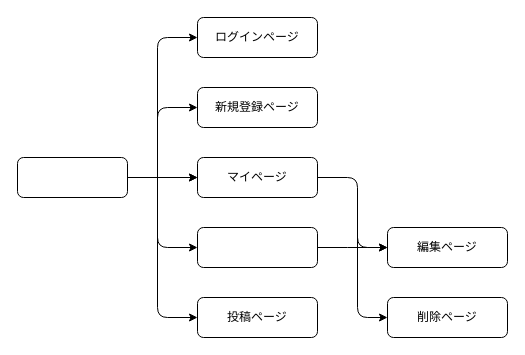
This 525x355 diagram has some shape labels left out. Each missing label, with the box of its shape:
一覧ページ: (16, 156, 128, 198)
詳細ページ: (196, 226, 318, 268)
